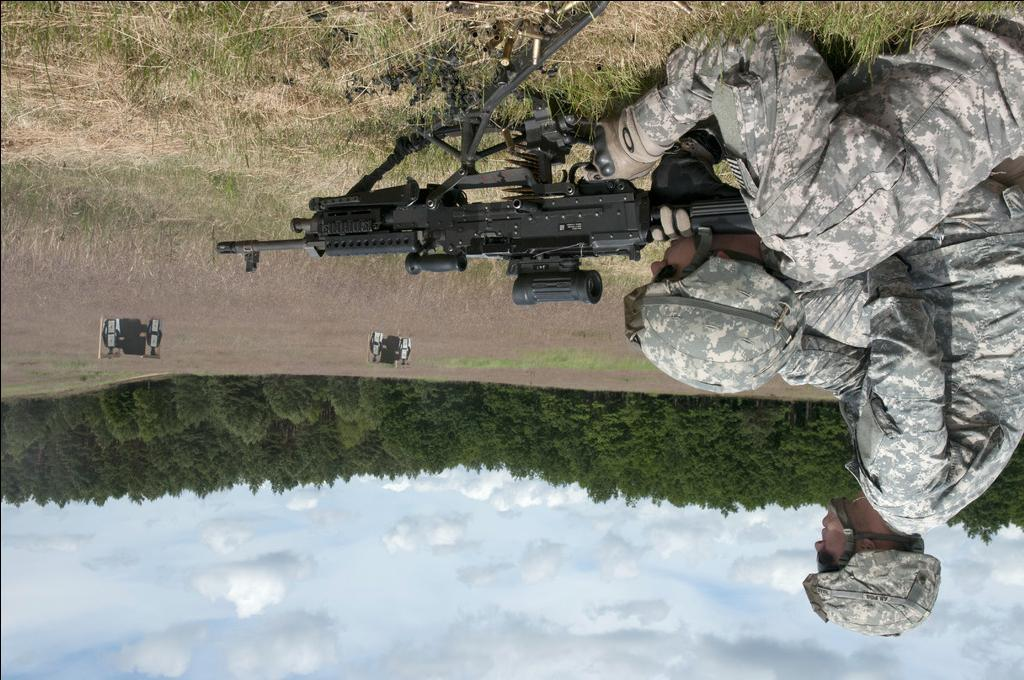gun: (213, 127, 760, 311)
